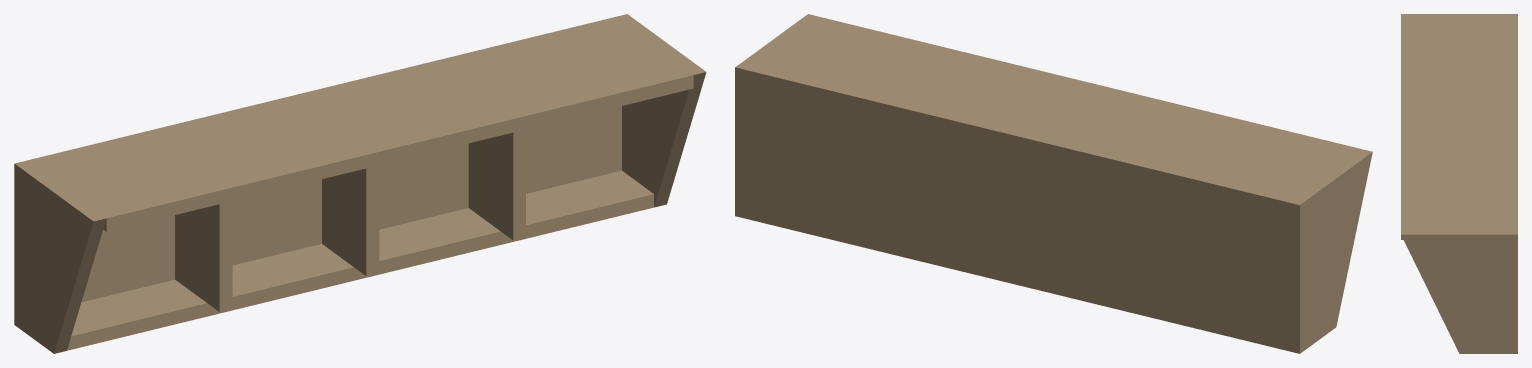
File: vinyl_record_storage.glb
3 renders of one model, left to right at view 1: azimuth 30°, elevation 25°; view 2: azimuth 150°, elevation 25°; view 3: azimuth 270°, elevation 25°, orthographic. The views are drawn at different scales.
Visible parts, largest first — view 1: back, bottom, front, side_left, side_right, divider_2, divider_1, divider_3; view 2: bottom, back, side_left, side_right; view 3: back, side_right, bottom, side_left.
Part boxes in pixels (x1,y1,x2,y2): back: (35,22,693,231); bottom: (27,17,621,302); front: (67,170,653,350); side_left: (14,160,106,353); side_right: (615,14,706,207); divider_2: (322,165,379,276); divider_1: (175,201,232,311); divider_3: (468,129,525,240); bottom: (747,65,1294,350); back: (754,17,1360,197); side_left: (1288,149,1372,353); side_right: (735,14,819,218); back: (1401,18,1506,239); side_right: (1401,230,1517,353); bottom: (1507,18,1517,229); side_left: (1401,14,1517,18).
Bounding box in the file's own units: 35.75 × 9 × 8.
